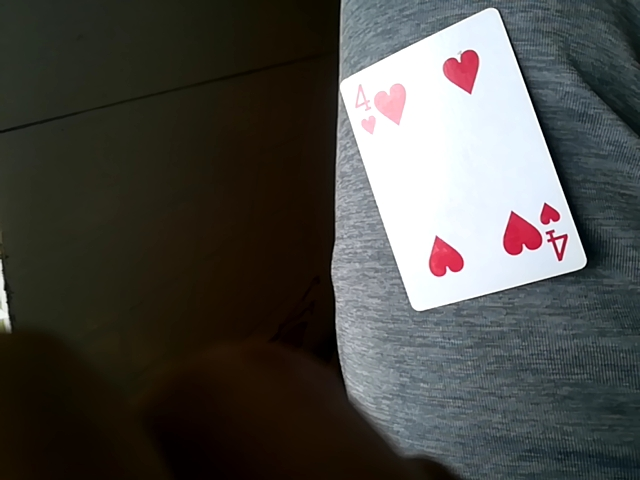hx 4: (339, 5, 590, 314)
